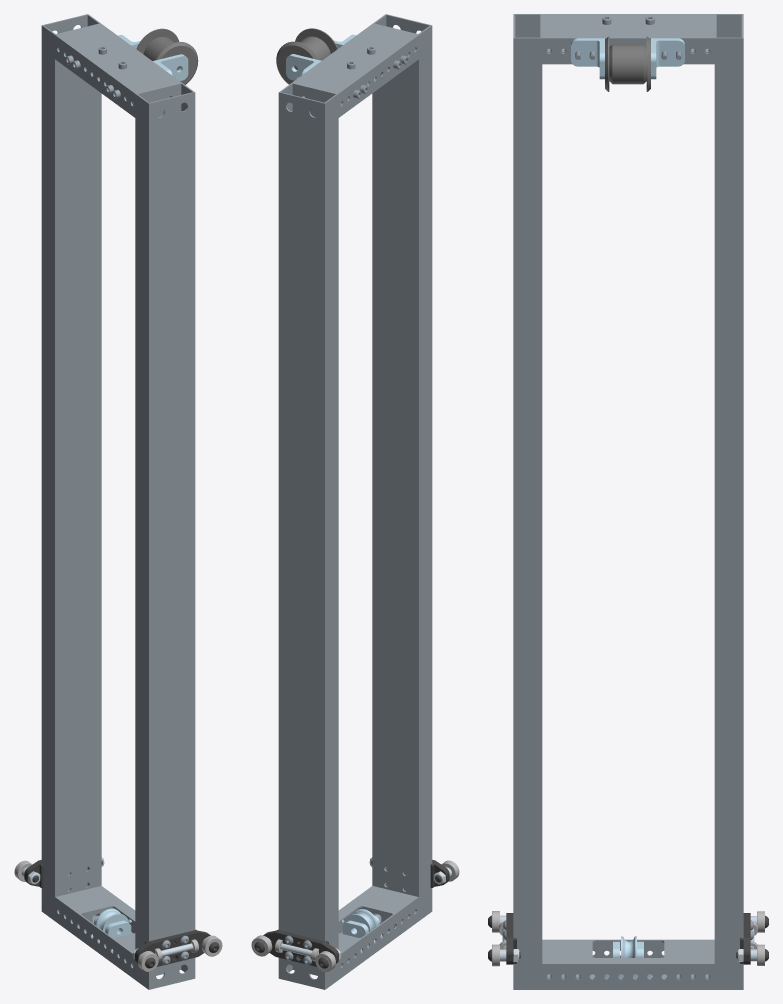
3 views of the same model, side by side, from view 1: azimuth 30°, elevation 25°; view 2: azimuth 150°, elevation 25°; view 3: azimuth 270°, elevation 25° (orthographic). The views are drawn at different scales.
Visible parts, largest first — view 1: Stage 2 Vertical (×2), Stage 2 Horizontal (×2), Sliding Bearing Block Plate - SLIDE-001, Constant Force Spring Retainer ELEV-SPRING-004, Constant Force Spring Bracket ELEV-SPRING-001; view 2: Stage 2 Vertical (×2), Stage 2 Horizontal (×2), Sliding Bearing Block Plate - SLIDE-001, Constant Force Spring Retainer ELEV-SPRING-004, Constant Force Spring Bracket ELEV-SPRING-001; view 3: Stage 2 Vertical (×2), Stage 2 Horizontal (×2), Constant Force Spring Bracket ELEV-SPRING-001 (×2), Constant Force Spring Spool ELEV-SPRING-003.
Part boxes in pixels (box(x1,y1,x2,y2)): Stage 2 Vertical (×2): box(41, 14, 195, 989); Stage 2 Horizontal (×2): box(55, 24, 181, 979); Sliding Bearing Block Plate - SLIDE-001: box(135, 929, 210, 966); Constant Force Spring Retainer ELEV-SPRING-004: box(155, 42, 198, 84); Constant Force Spring Bracket ELEV-SPRING-001: box(153, 54, 188, 80); Stage 2 Vertical (×2): box(278, 14, 432, 989); Stage 2 Horizontal (×2): box(292, 24, 418, 979); Sliding Bearing Block Plate - SLIDE-001: box(263, 929, 338, 966); Constant Force Spring Retainer ELEV-SPRING-004: box(276, 41, 318, 84); Constant Force Spring Bracket ELEV-SPRING-001: box(286, 54, 321, 80); Stage 2 Vertical (×2): box(513, 14, 743, 989); Stage 2 Horizontal (×2): box(542, 14, 714, 989); Constant Force Spring Bracket ELEV-SPRING-001 (×2): box(571, 38, 684, 79); Constant Force Spring Spool ELEV-SPRING-003: box(609, 44, 646, 84).
Bounding box in the file's own units: 0.1213 × 0.9436 × 0.2479.
